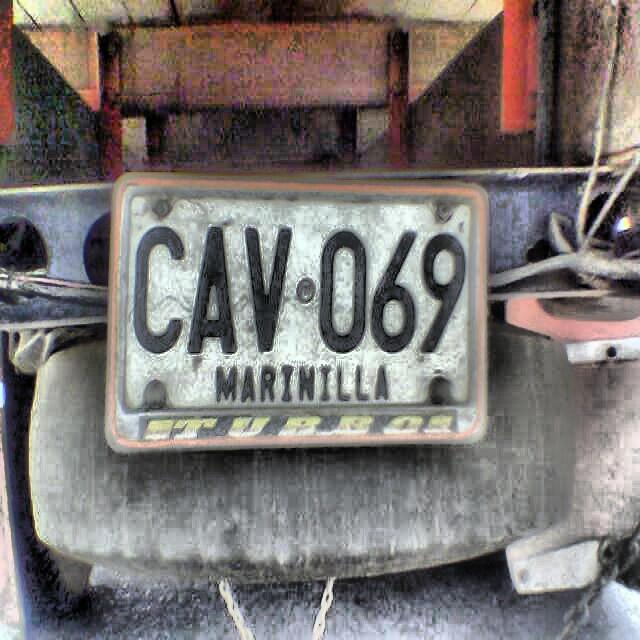plate: (106, 172, 490, 452)
